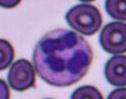N: (33, 28, 92, 85)
